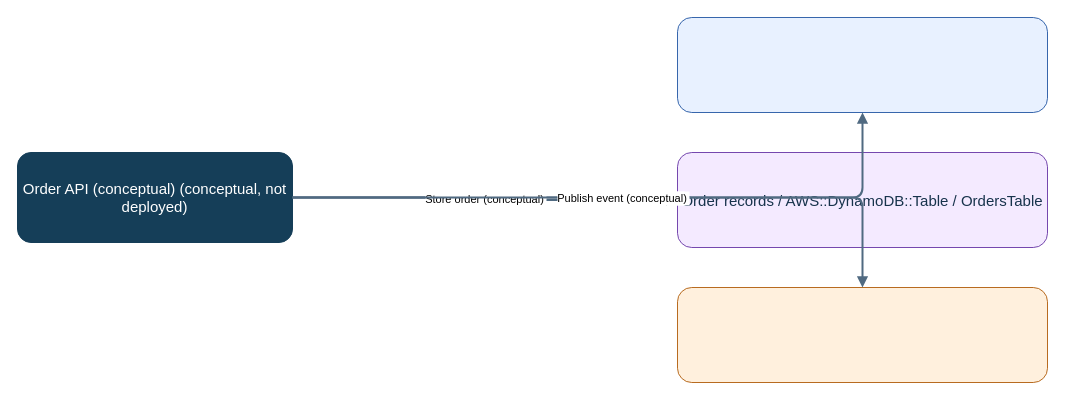
Image size: 1065x400. Some labels were removed from this diagram. Here are the shapes that lost their labels. From the top down, the box of each, then its label:
(676, 16, 1048, 112): Receipt storage / AWS::S3::Bucket / ReceiptsBucket
(676, 286, 1048, 382): Fulfillment events / AWS::SQS::Queue / FulfillmentQueue
